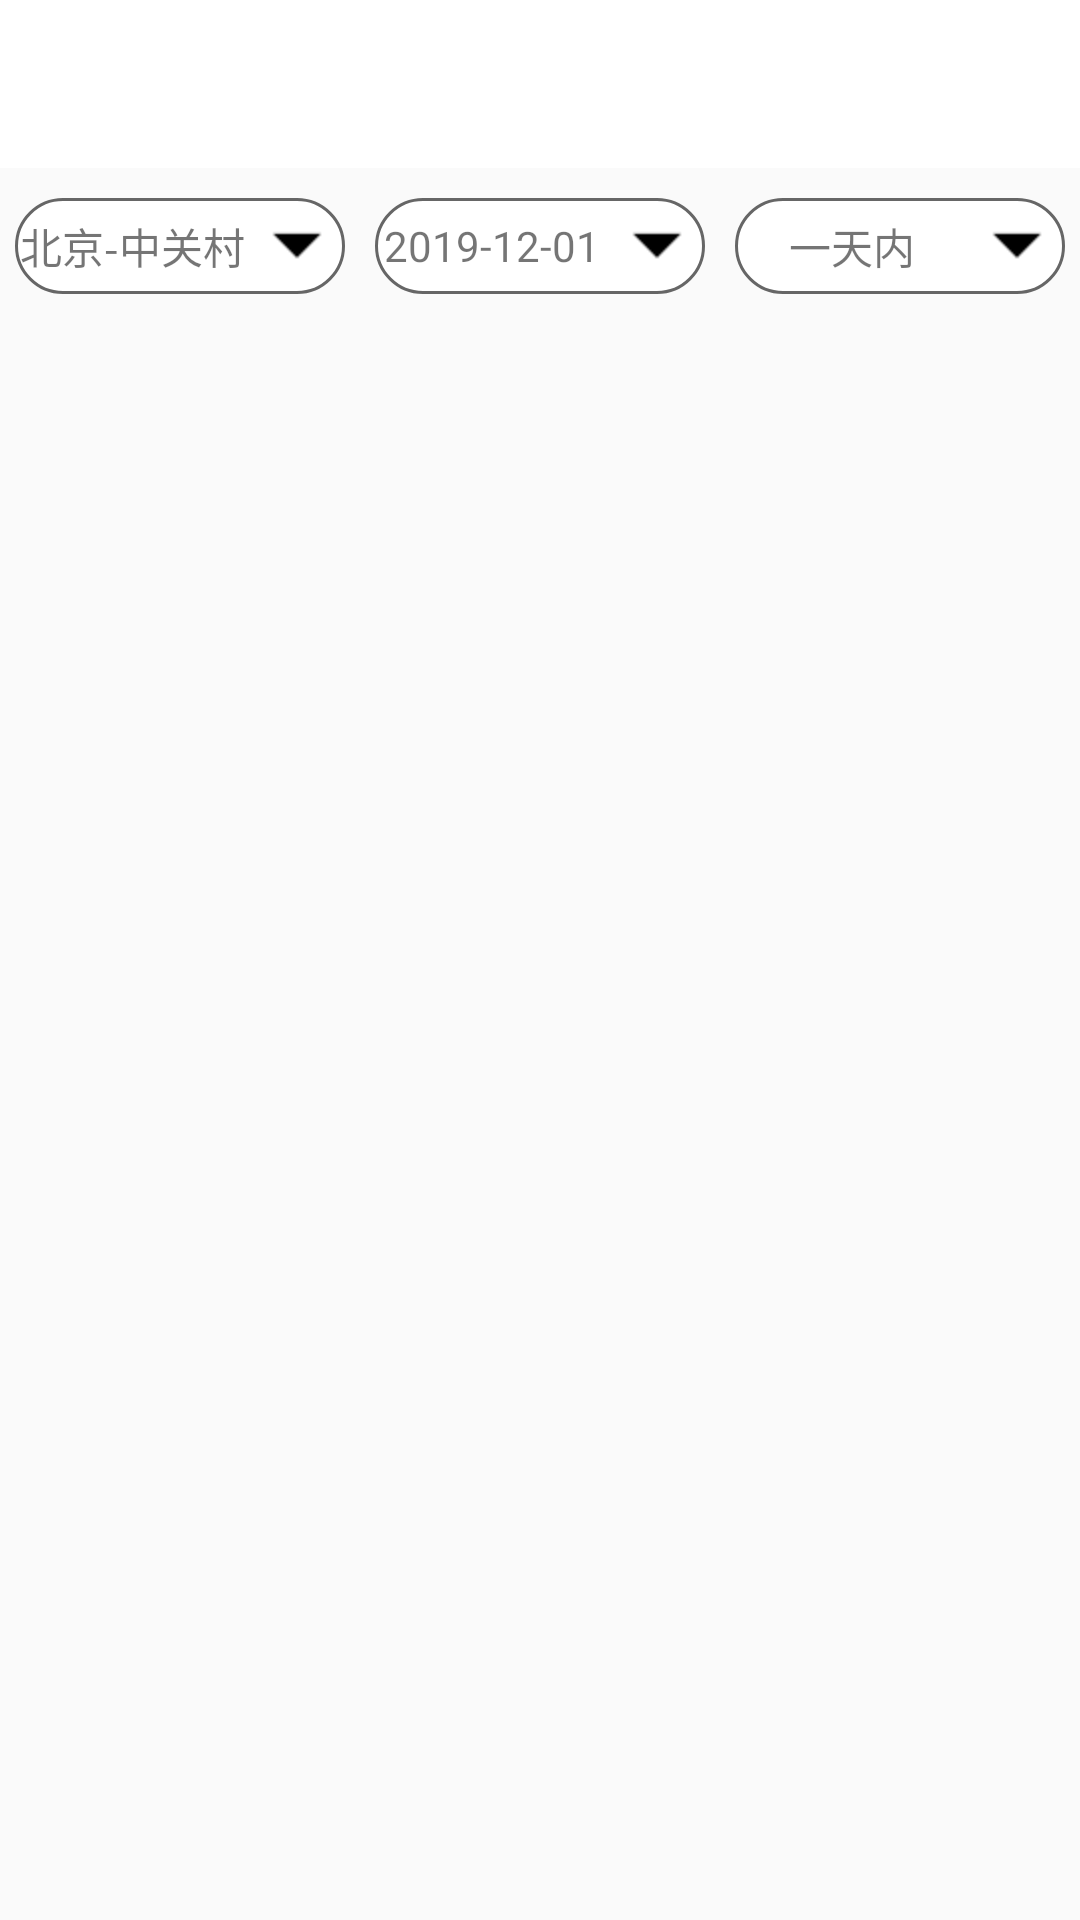

Locate icon controls on the screen. Image size 1080w x 1920h, boxes as Rect(x1, y1, x2, y2).
angle: Rect(249, 198, 345, 294), Rect(609, 198, 705, 294), Rect(969, 198, 1065, 294)
